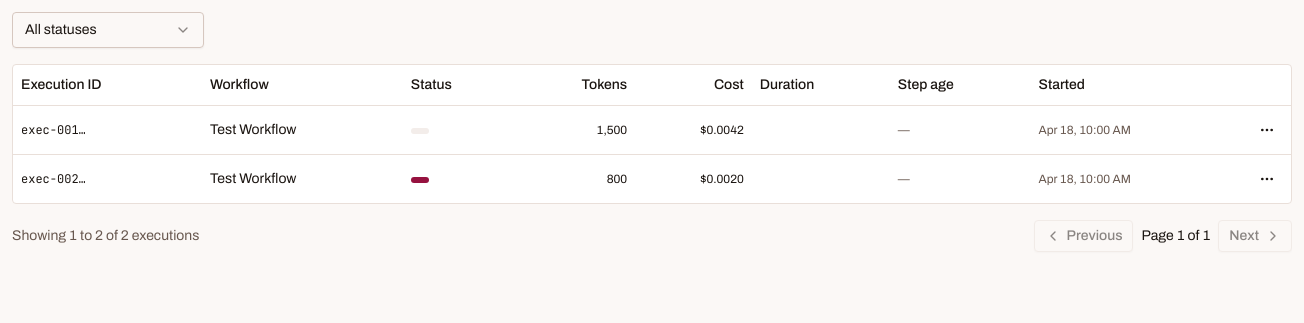
Scenario: ExecutionsTable › list refetch error path › surfaces a friendly error banner when the executions refetch fails
Click the dropdown: {"x": 108, "y": 30} top-left (12, 12), bottom-right (204, 48)
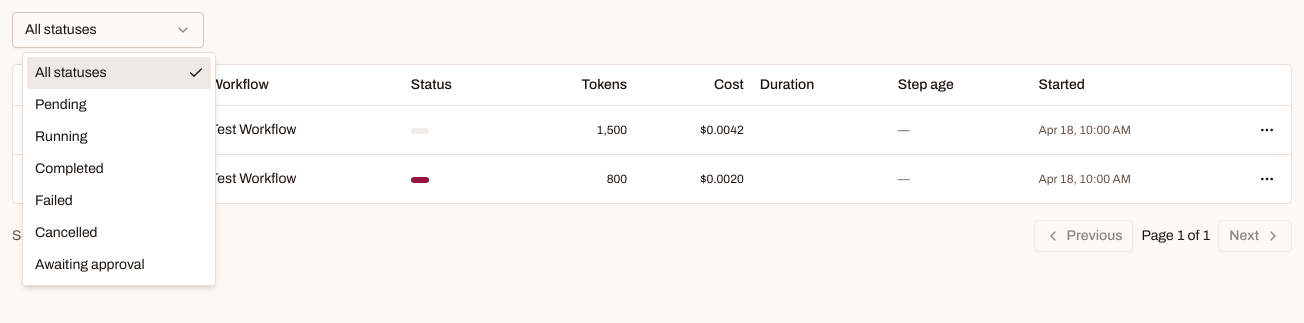
Click the option "Running": {"x": 61, "y": 136} top-left (35, 129), bottom-right (88, 144)
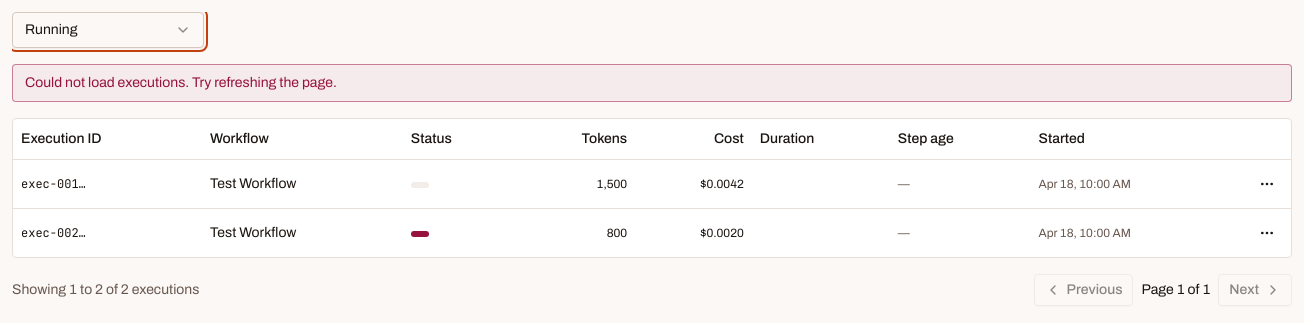
Now the text "Could not load executions. Try refreshing the page." is shown, box top-left (12, 64), bottom-right (1292, 102)
